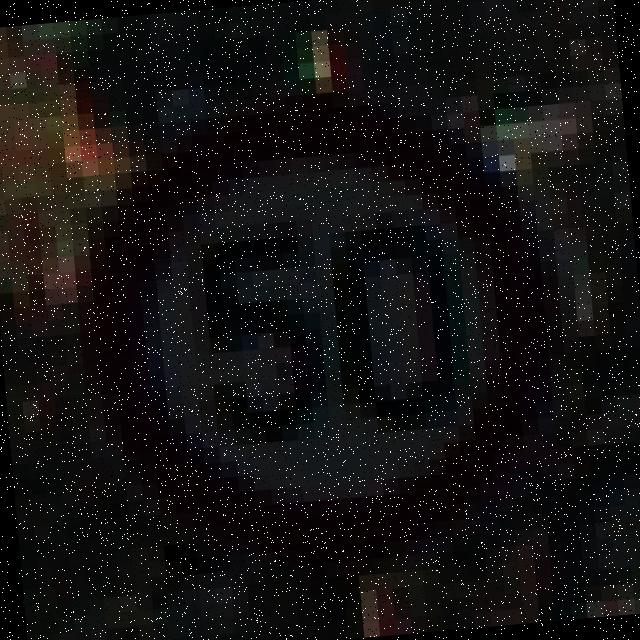Ograniczenie predkosci do 50: (65, 79, 580, 581)
